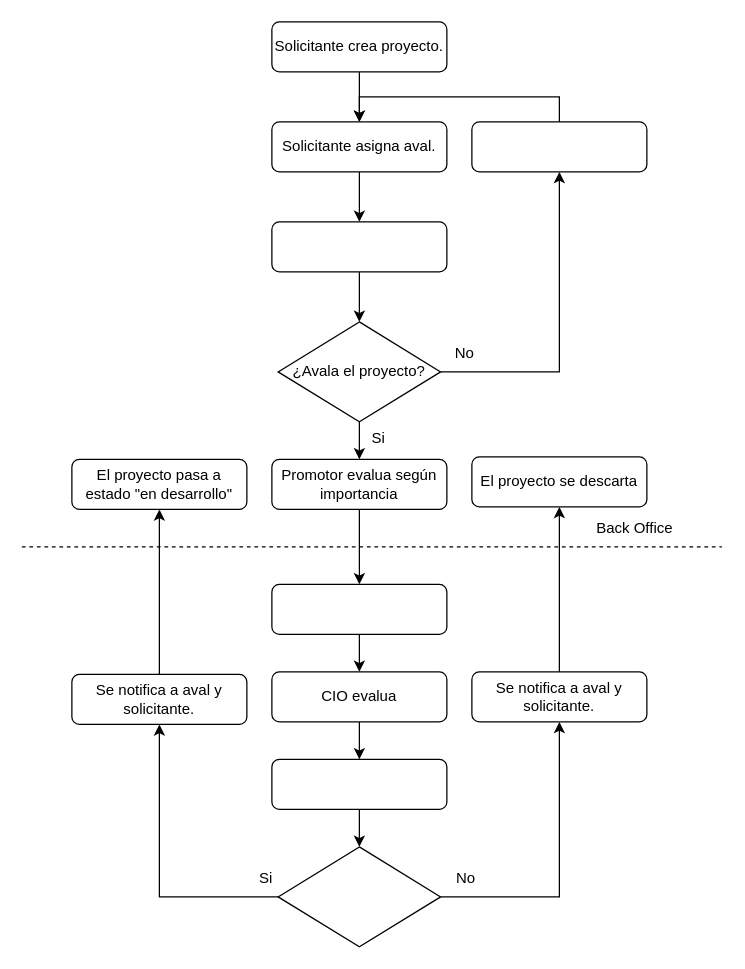
Some shapes in this 745 by 969 pixel diagram are drawn without their labels. The centre of each missing label's shape, as x and y in pixels:
"El proyecto pasa a lista de aceptados" goes at (x=359, y=783).
"OTP evalua y asigna precio" goes at (x=359, y=608).
"Promotor recibe notificación." goes at (x=359, y=246).
"Promotor se desliga del proyecto." goes at (x=559, y=146).
"¿Se desarrolla?" goes at (x=359, y=896).
